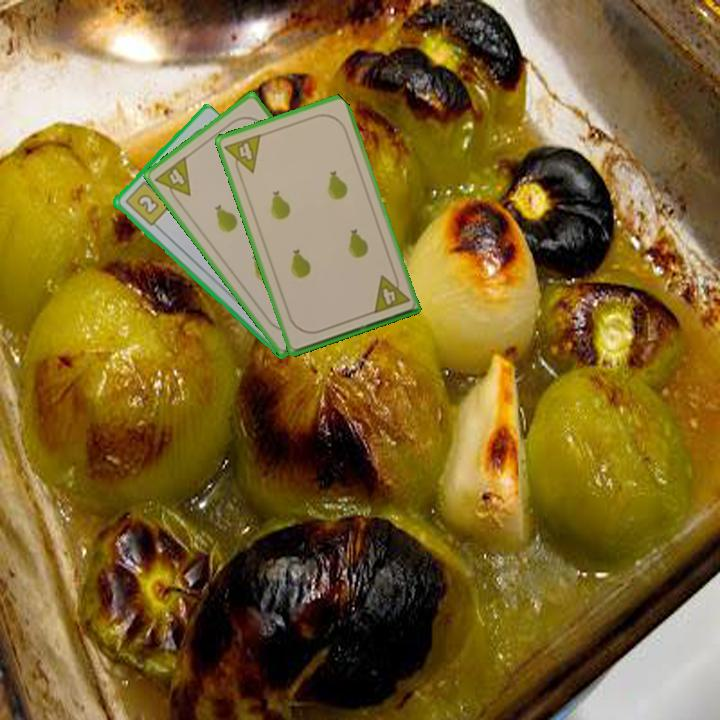2b: (121, 174, 173, 229)
4p: (151, 153, 194, 207), (221, 130, 264, 180), (369, 268, 412, 316)
